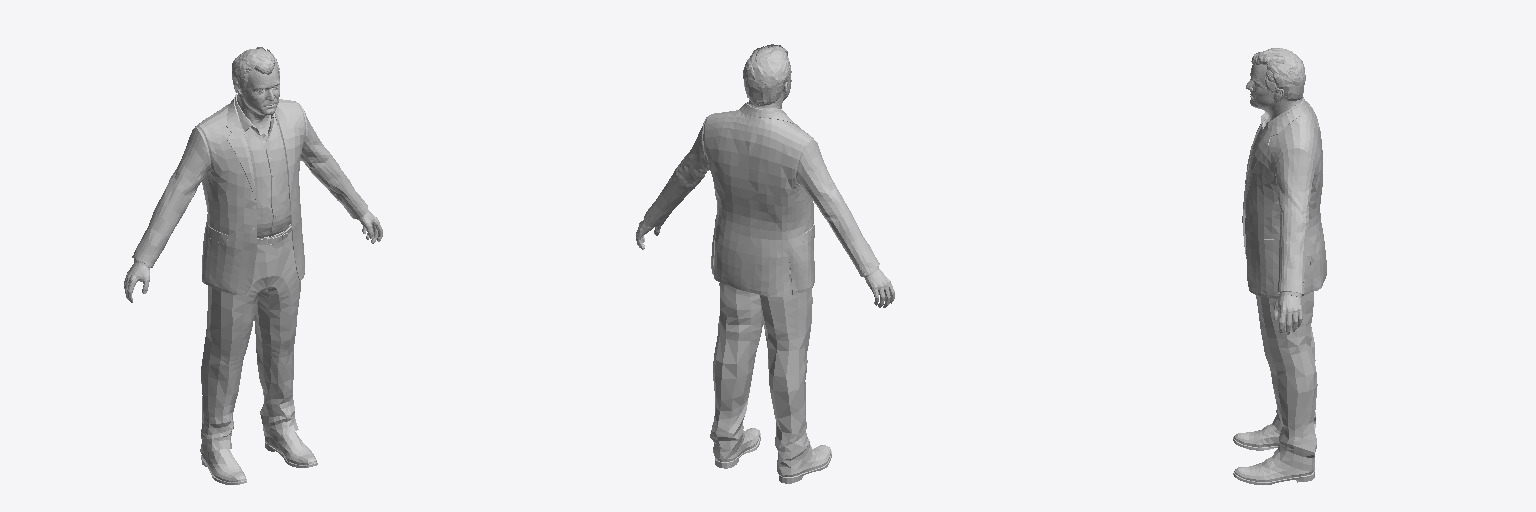
Rendered from michael_fullbody.obj.
3 views of the same model, side by side, from view 1: azimuth 30°, elevation 25°; view 2: azimuth 150°, elevation 25°; view 3: azimuth 270°, elevation 25° (orthographic).
Visible parts, largest first — view 1: default007, default004, default006, default002, default001000, default, default003; view 2: default007, default004, default, default002, default003; view 3: default007, default004, default002, default, default001000, default003.
Boxes of the visible parts, x1=… form: default007: x1=132, y1=94, x2=367, y2=295; default004: x1=200, y1=224, x2=300, y2=452; default006: x1=235, y1=94, x2=290, y2=237; default002: x1=201, y1=431, x2=317, y2=484; default001000: x1=234, y1=63, x2=279, y2=136; default: x1=232, y1=47, x2=279, y2=92; default003: x1=124, y1=210, x2=382, y2=302; default007: x1=644, y1=103, x2=879, y2=296; default004: x1=710, y1=263, x2=812, y2=475; default: x1=743, y1=44, x2=790, y2=105; default002: x1=715, y1=428, x2=831, y2=483; default003: x1=636, y1=220, x2=894, y2=307; default007: x1=1242, y1=97, x2=1326, y2=298; default004: x1=1256, y1=292, x2=1317, y2=471; default002: x1=1233, y1=423, x2=1314, y2=484; default: x1=1251, y1=48, x2=1305, y2=100; default001000: x1=1246, y1=64, x2=1300, y2=120; default003: x1=1273, y1=295, x2=1302, y2=334.
Bounding box in the file's own units: 119 × 184 × 37.94.